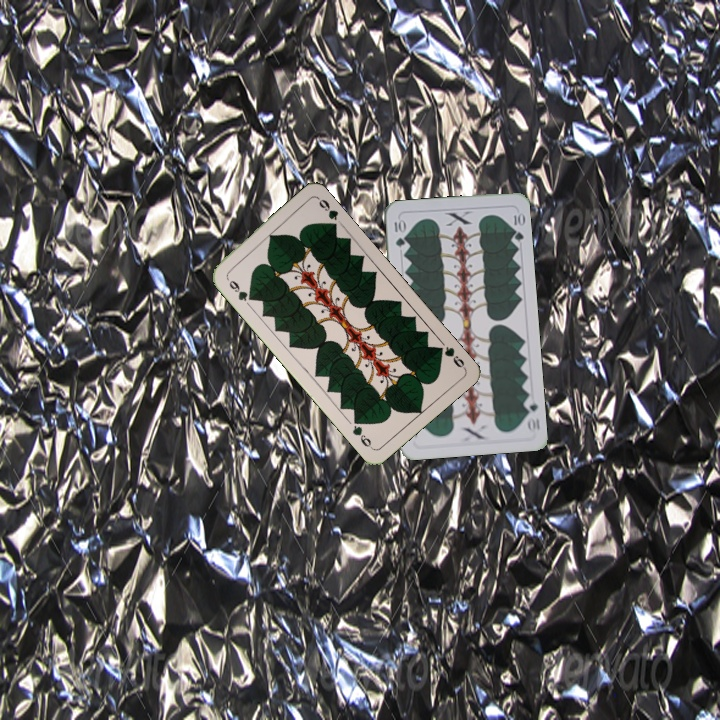G10: (520, 394, 542, 434), (390, 216, 407, 250)
G9: (222, 273, 256, 308), (432, 342, 468, 371)
